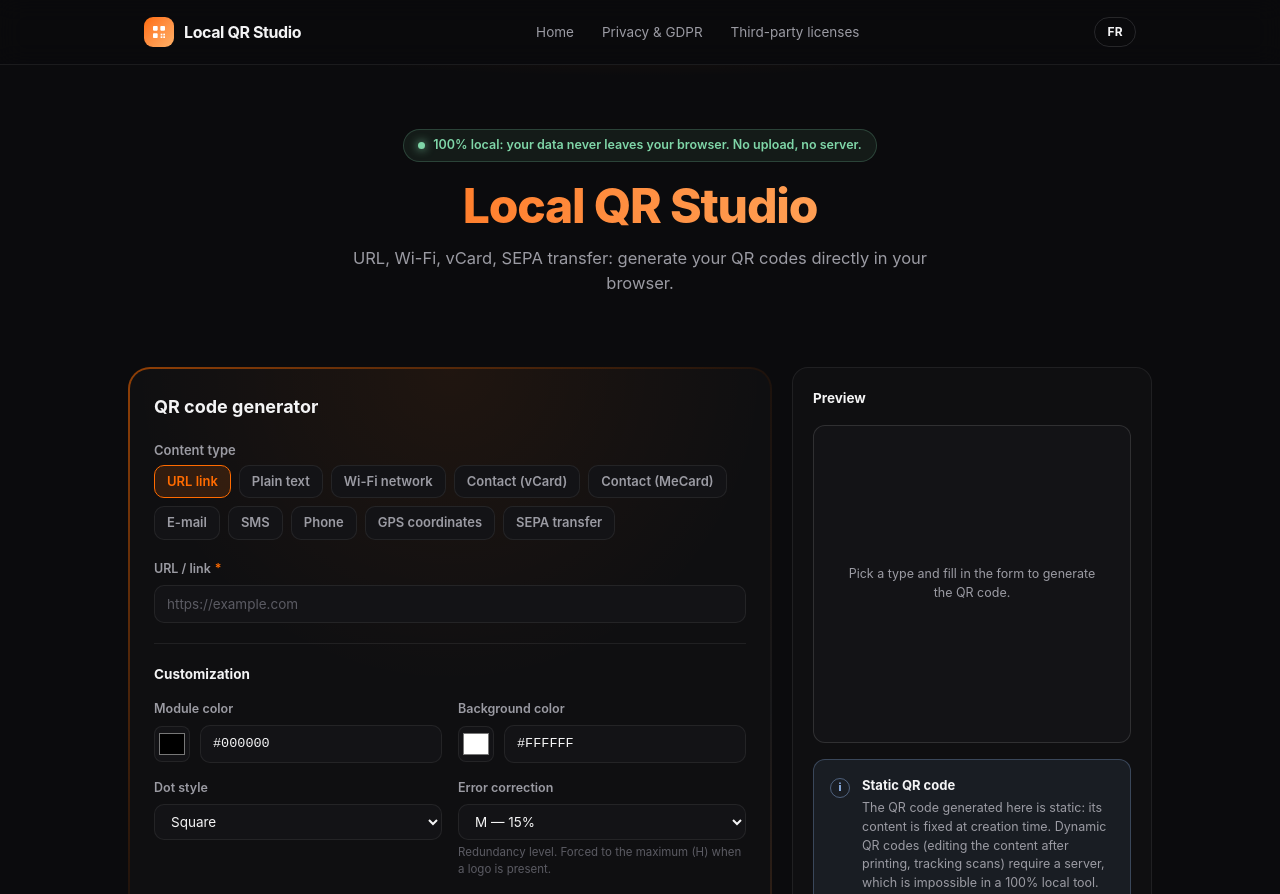
Shell › toggles the locale via the pill
Click the button with test id "locale-toggle".
click(1115, 32)  # box [1094,17,1136,47]
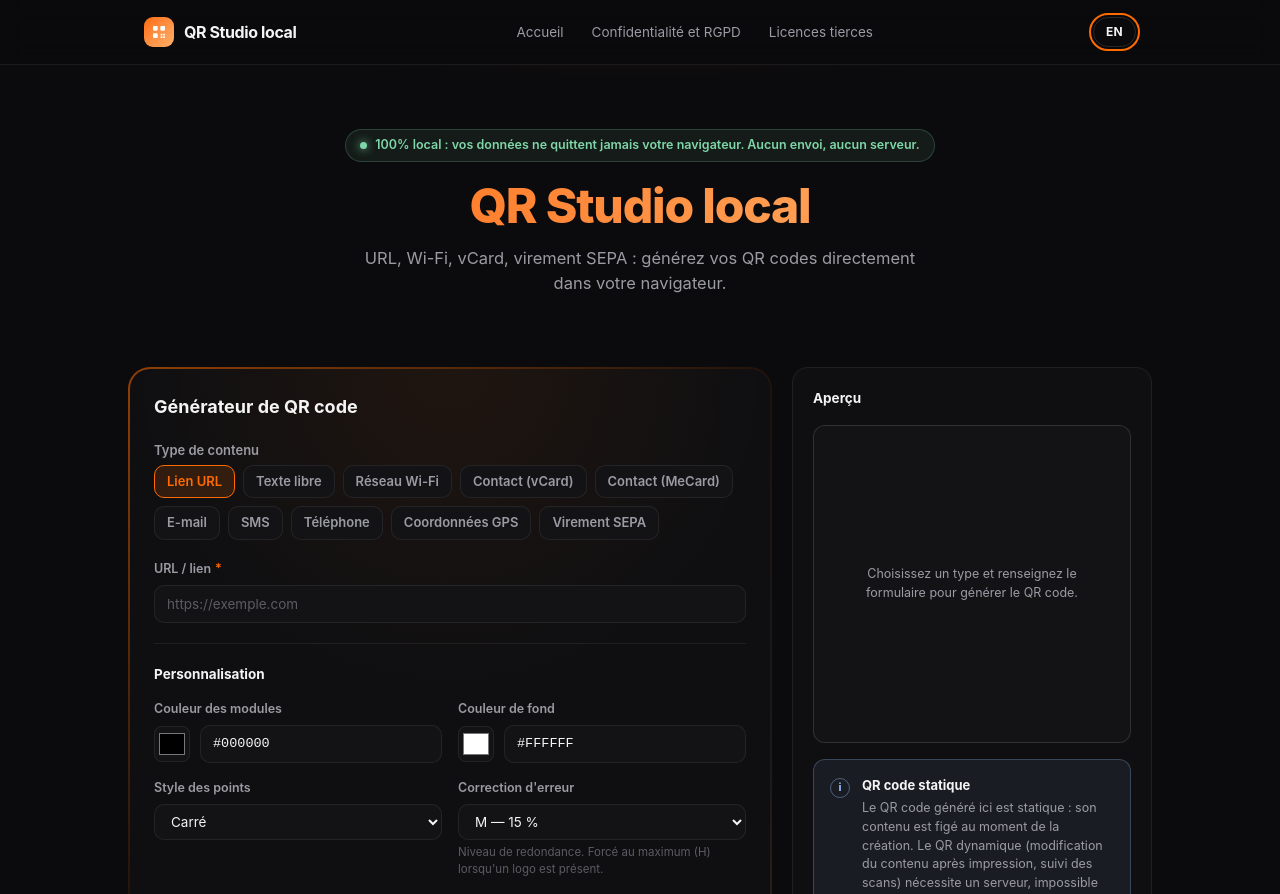
Check: the button with test id "locale-toggle" reads "EN", box [1093,17,1136,47]
